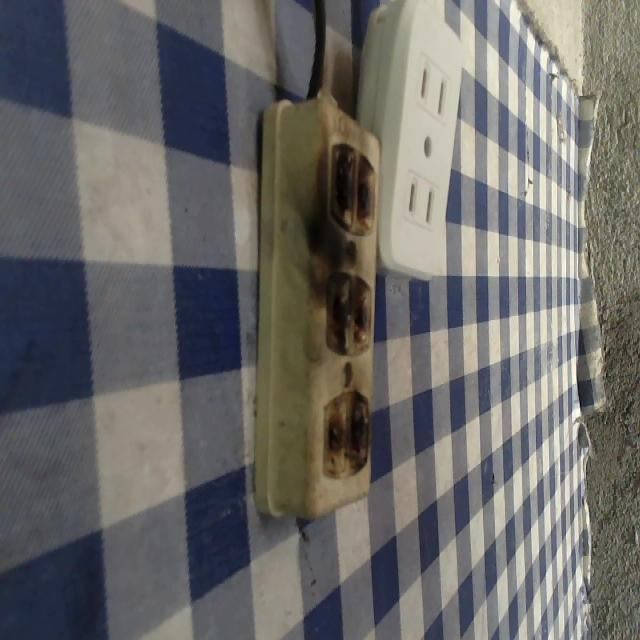-: (318, 388, 384, 493), (320, 135, 380, 248), (313, 267, 377, 361)
